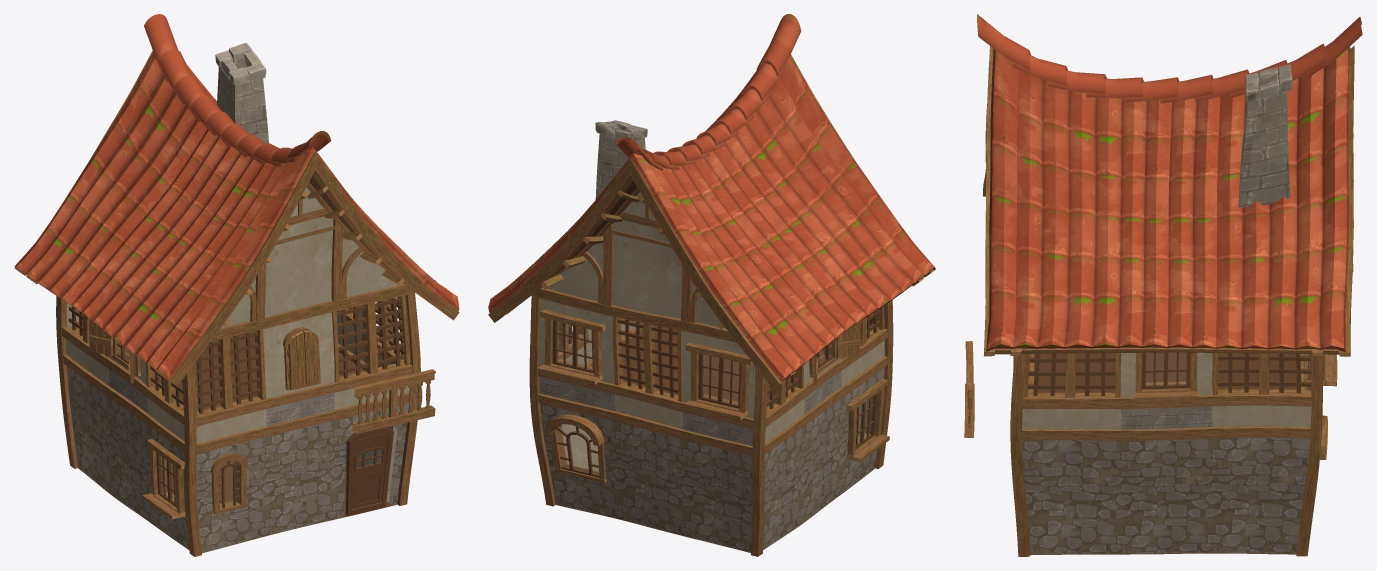
The picture shows the model from 3 angles, left to right: view 1: azimuth 30°, elevation 25°; view 2: azimuth 150°, elevation 25°; view 3: azimuth 270°, elevation 25°; orthographic projection. The views are drawn at different scales.
Visible parts, largest first — view 1: H07; view 2: H07; view 3: H07.
Part boxes in pixels (x1,y1,x2,y2): H07: (14, 14, 459, 556); H07: (488, 14, 935, 556); H07: (964, 14, 1362, 556).
Bounding box in the file's own units: 8.78 × 11.48 × 8.57.
Materials: 45 (41 with a texture image).
